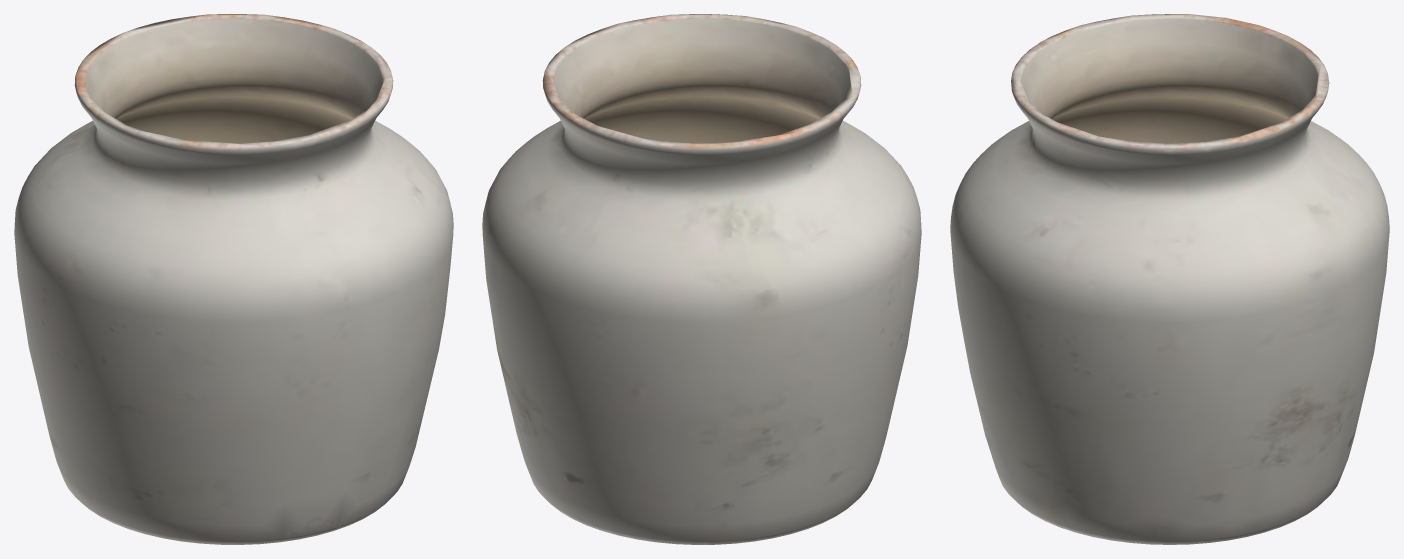
The model's file is ph-ceramic-vase-02.glb.
The picture shows the model from 3 angles, left to right: view 1: azimuth 30°, elevation 25°; view 2: azimuth 150°, elevation 25°; view 3: azimuth 270°, elevation 25°; orthographic projection.
Parts seen in each view (by area): view 1: ceramic_vase_02; view 2: ceramic_vase_02; view 3: ceramic_vase_02.
Part boxes in pixels (box(x1,y1,x2,y2)): ceramic_vase_02: box(14, 14, 453, 544); ceramic_vase_02: box(482, 14, 921, 544); ceramic_vase_02: box(950, 14, 1389, 544).
Bounding box in the file's own units: 1 × 1 × 1.
1 material, 1 textured.
